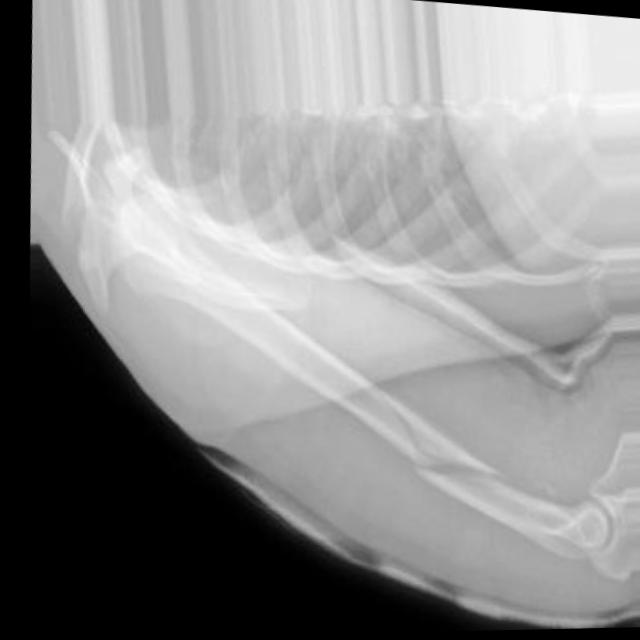fracture: (390, 433, 511, 506)
